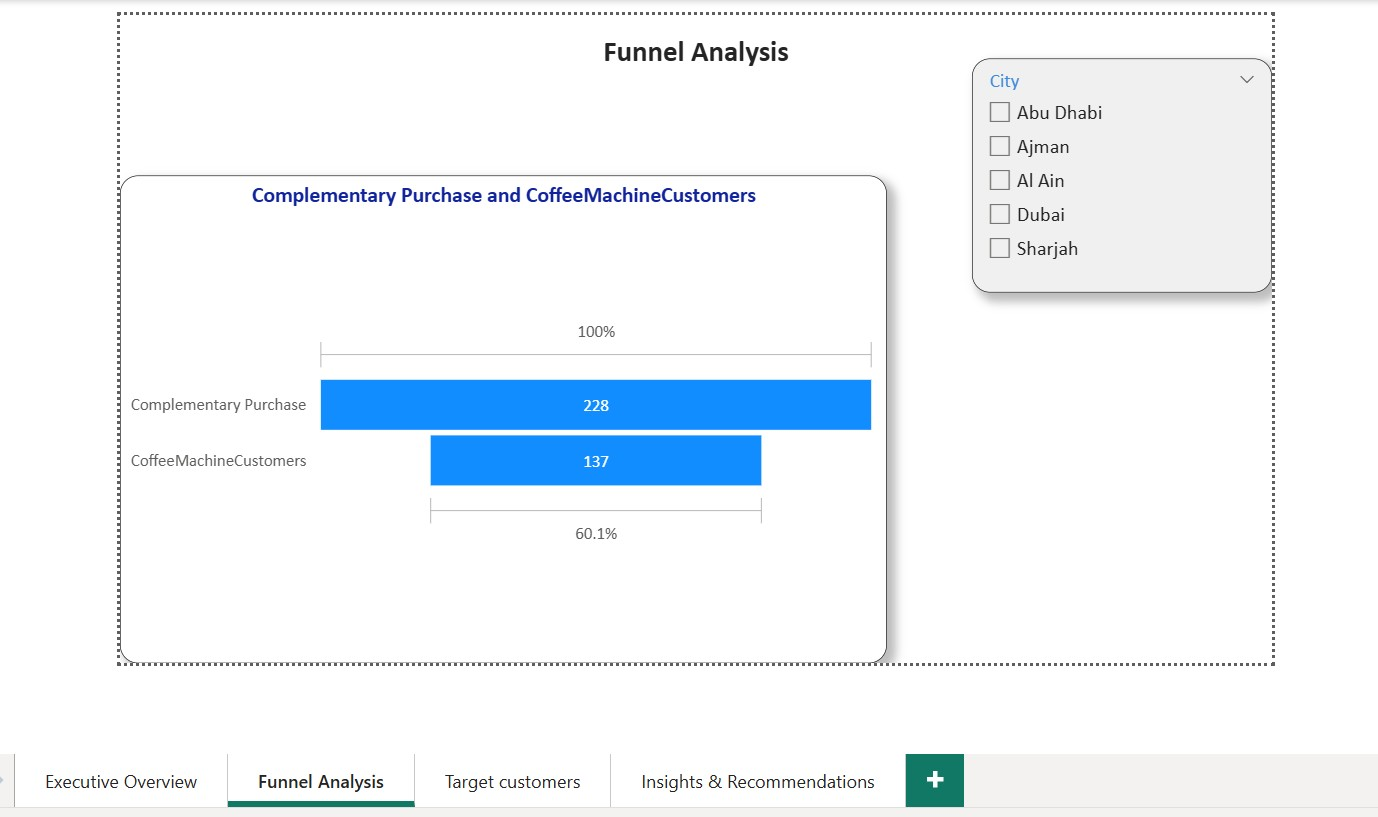

The page's visual inventory and layout, read from the dashboard file:
{"tool":"powerbi","page":{"name":"Funnel Analysis","canvas":[1280,720],"ordinal":1},"visuals":[{"type":"funnel","fields":{"Y":["Fact_Sales.Complementary Purchase","Fact_Sales.CoffeeMachineCustomers"]},"box":[0,178.3,851.7,541.7],"z":0},{"type":"textbox","box":[465.7,15.7,350,65.7],"z":1000},{"type":"slicer","fields":{"Values":["customers.City"]},"box":[946.7,48.3,333.3,260],"z":2000}]}

Visuals, with their boxes on the page's 1280x720 design canvas (x1, y1, x2, y2). These are canvas units, not pixel positions in the 1378x817 screenshot, which may show the page scaled, cropped or inside an application window:
funnel - Fact_Sales.Complementary Purchase x Fact_Sales.CoffeeMachineCustomers: 0,178,852,720
textbox: 466,16,816,81
slicer - customers.City: 947,48,1280,308
